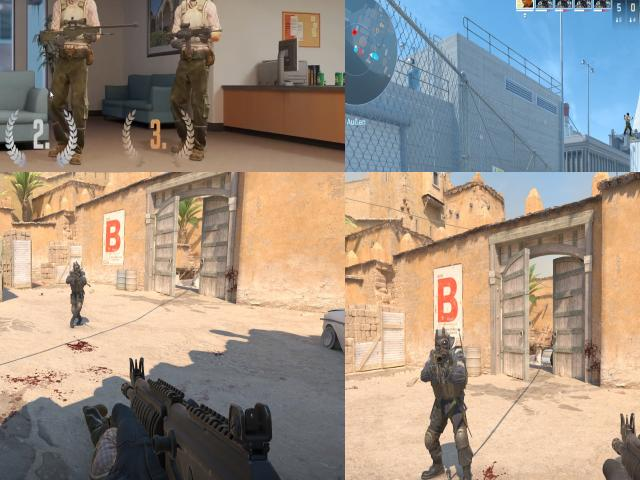CT: (428, 327, 469, 480), (71, 262, 84, 324)
CT-Head: (434, 329, 452, 355), (73, 262, 80, 271)
T: (168, 0, 220, 89), (48, 0, 103, 81), (624, 112, 631, 138)
T-Head: (626, 112, 630, 118)
